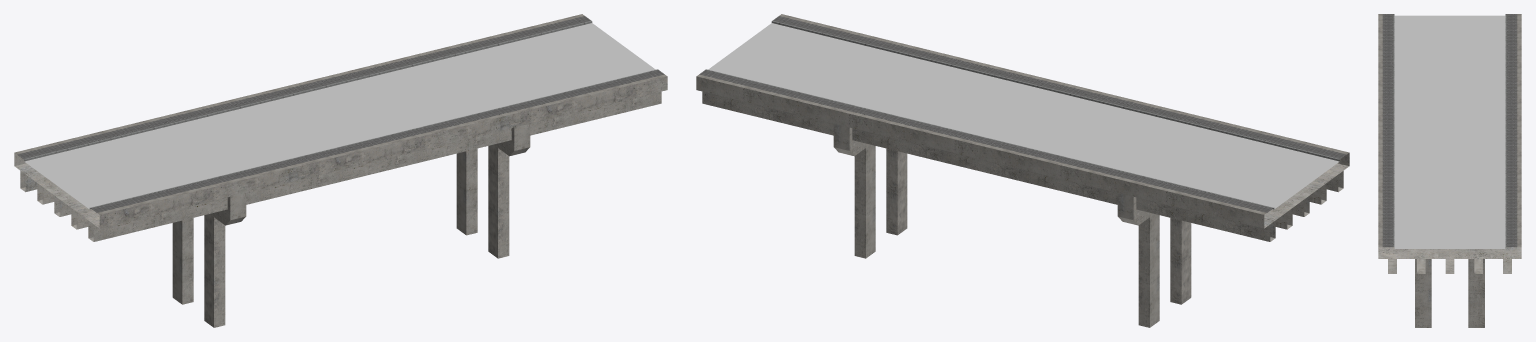
Rendered from mroad3.FBX.
3 renders of one model, left to right at view 1: azimuth 30°, elevation 25°; view 2: azimuth 150°, elevation 25°; view 3: azimuth 270°, elevation 25°, orthographic. The views are drawn at different scales.
Parts seen in each view (by area): view 1: polySurface1970; view 2: polySurface1970; view 3: polySurface1970.
Part boxes in pixels (x1,y1,x2,y2): polySurface1970: (14,14,667,327); polySurface1970: (696,14,1349,327); polySurface1970: (1378,14,1521,327).
Bounding box in the file's own units: 50 × 13.65 × 13.
